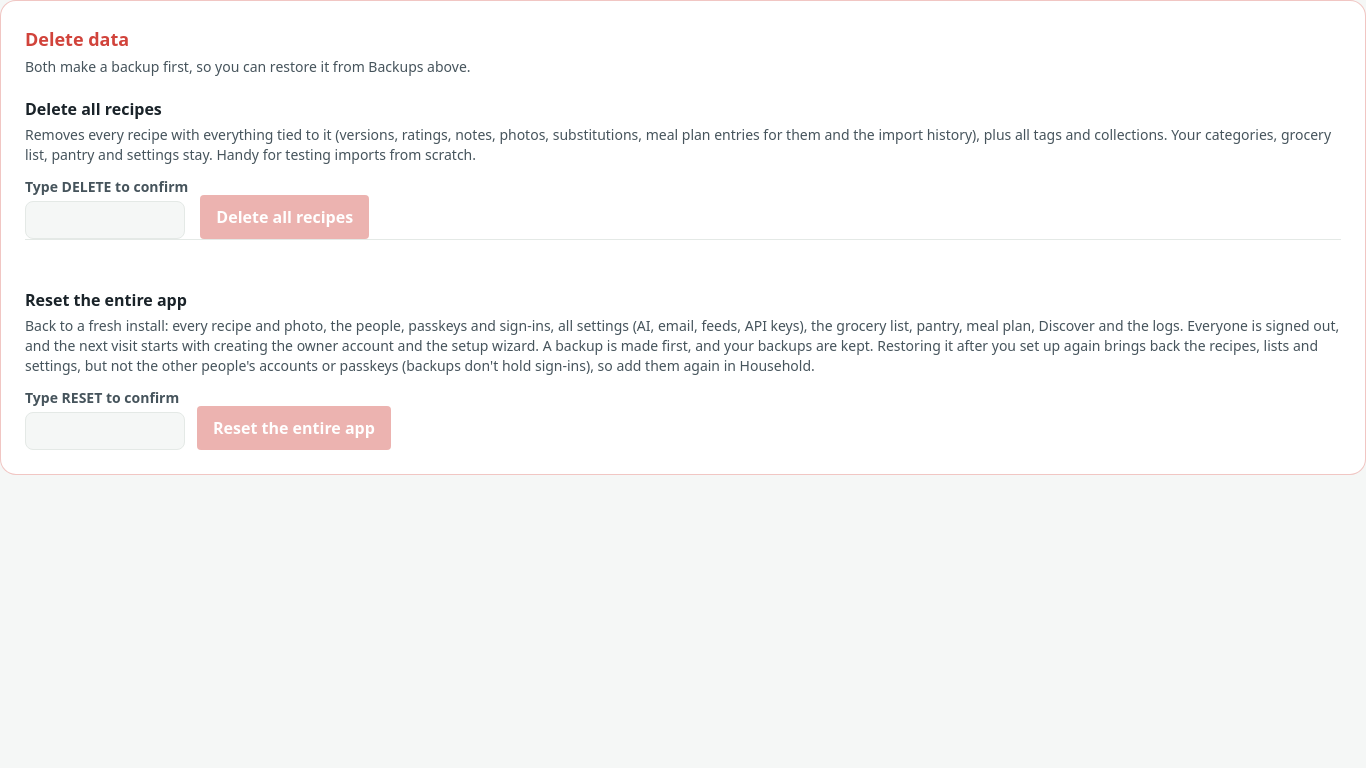
Test case: Delete data › Delete all recipes (Settings › Data) › says what goes and what stays; the button only works once DELETE is typed
Expected: the element "Delete all recipes" shows "versions, ratings, notes, photos", top-left (25, 125), bottom-right (1331, 164)
Expected: the element "Delete all recipes" shows "tags and collections", top-left (25, 125), bottom-right (1331, 164)
In the field labelled "Type DELETE to confirm": (105, 220) top-left (25, 201), bottom-right (185, 239), type "delete"
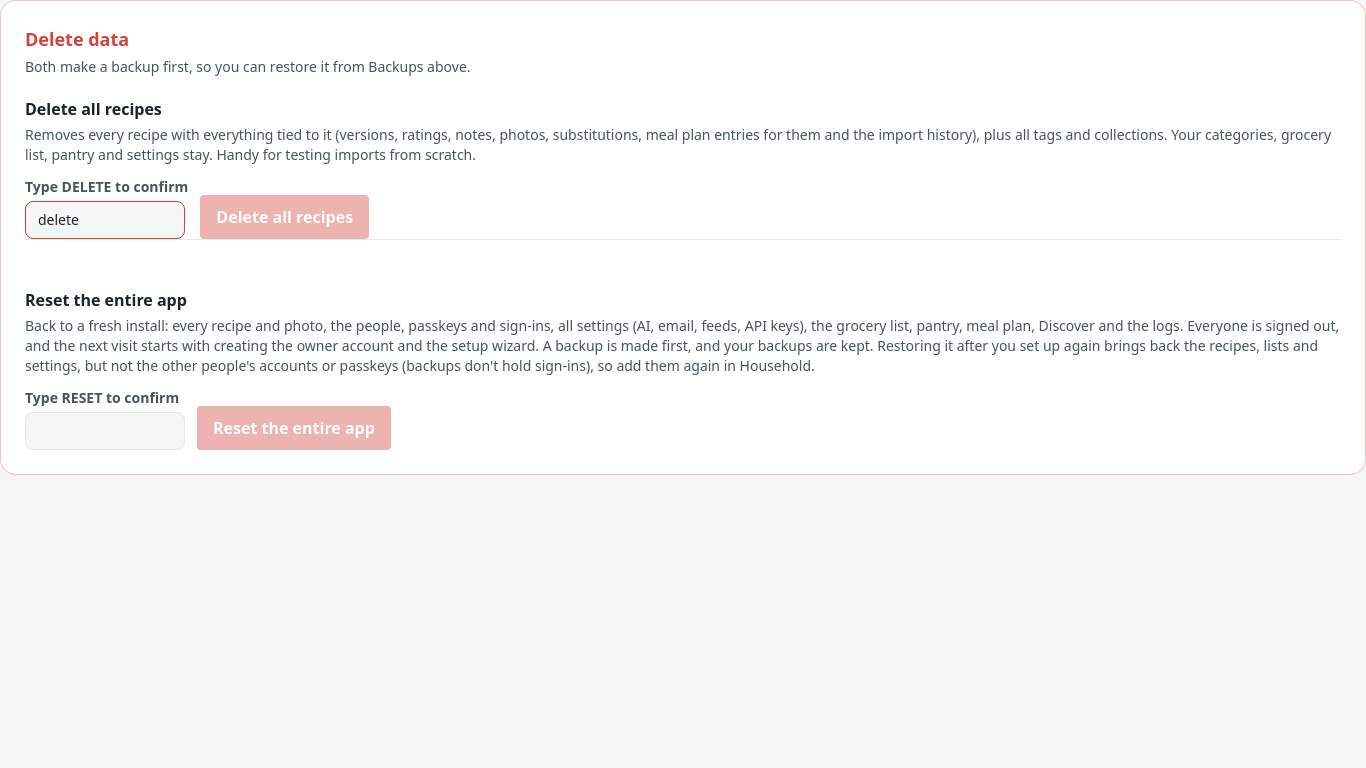
Expected: the button "Delete all recipes" is disabled, top-left (200, 195), bottom-right (369, 239)
Replace the text in the field labelled "Type DELETE to confirm" with "DELETE": (105, 220) top-left (25, 201), bottom-right (185, 239)
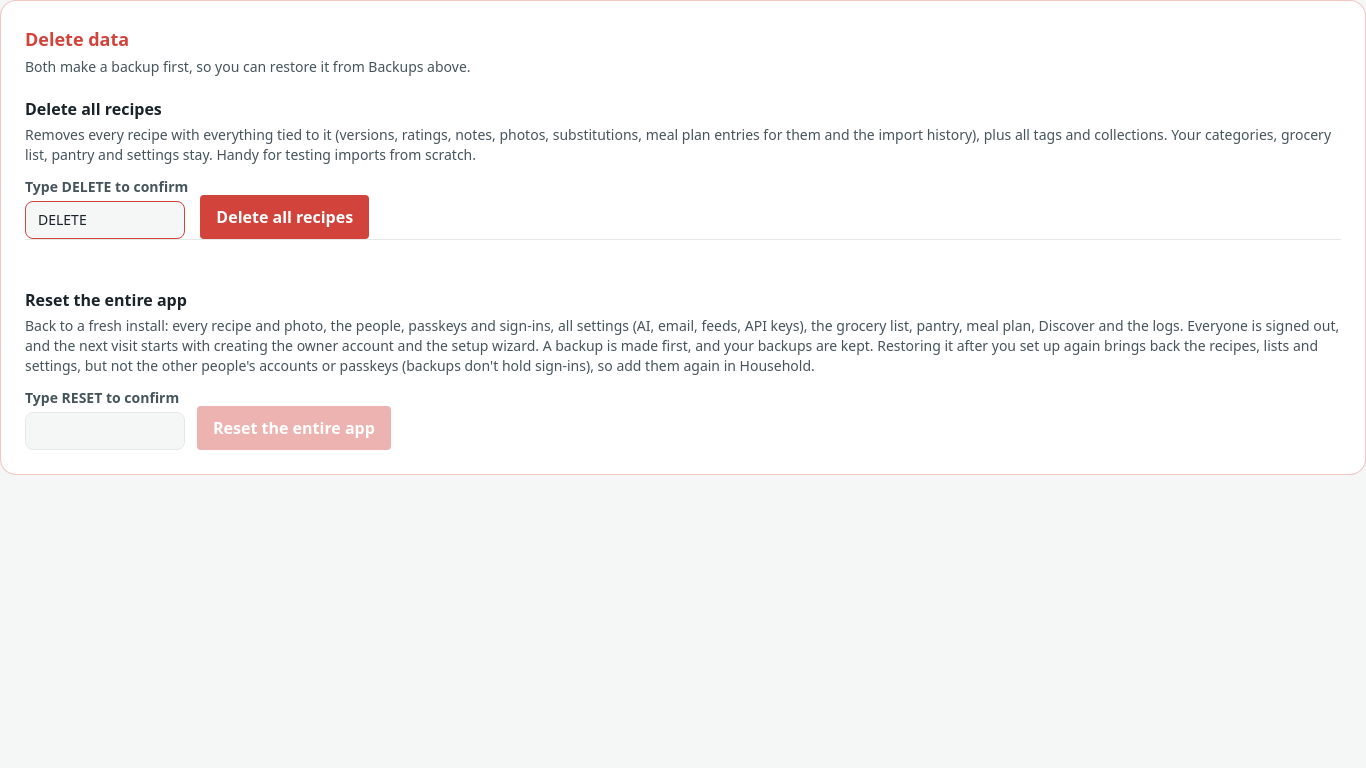
Click the button "Delete all recipes": (285, 217) top-left (200, 195), bottom-right (369, 239)
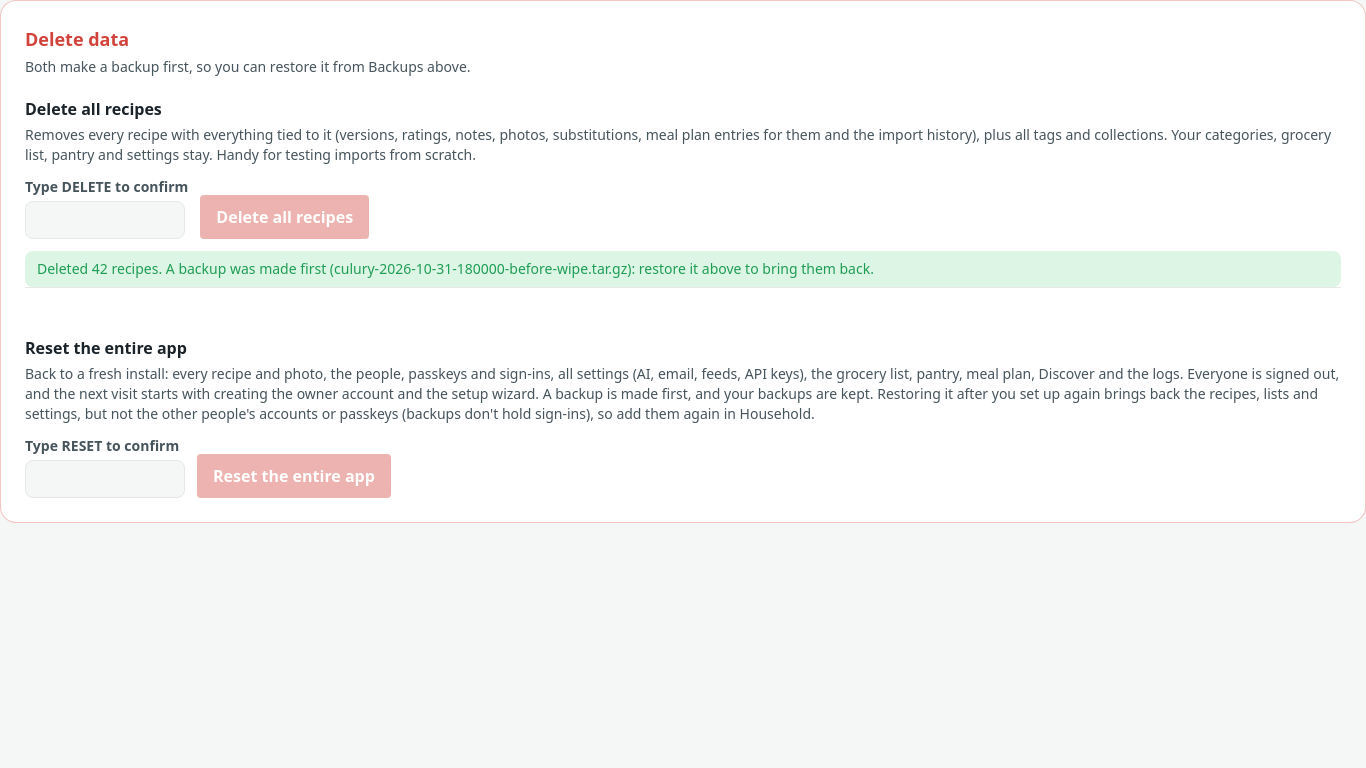
Expected: the message shows "Deleted 42 recipes. A backup was made first (culury-2026-10-31-180000-before-wipe.tar.gz): restore it above to bring them back.", top-left (37, 259), bottom-right (874, 278)
